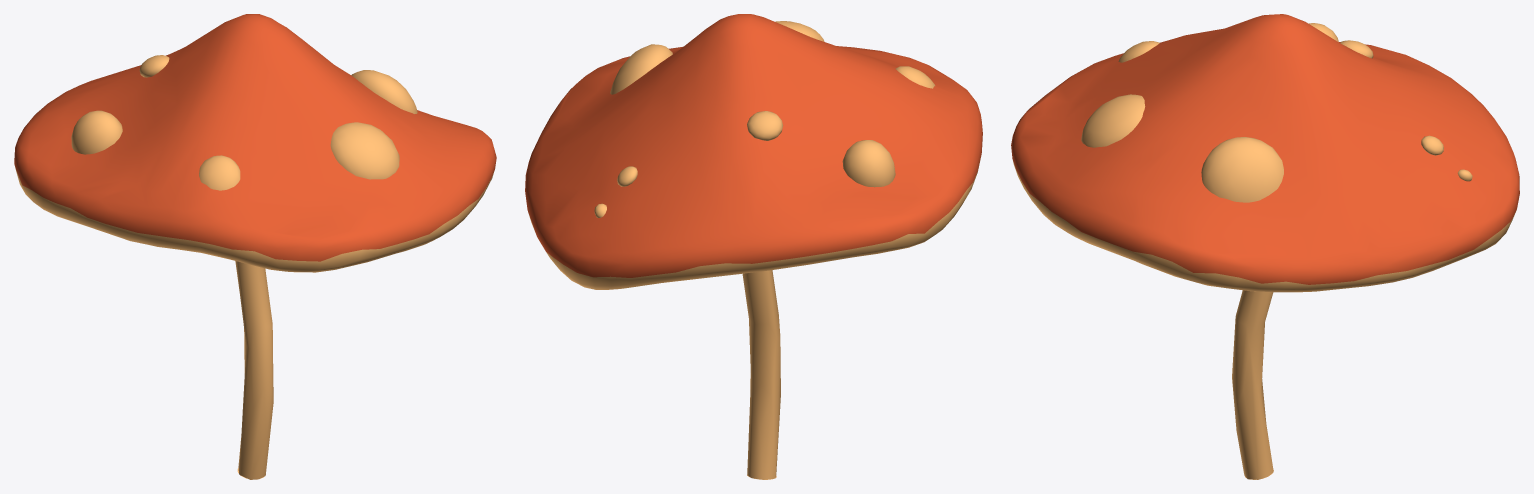
The model's file is hongo.glb.
The picture shows the model from 3 angles, left to right: view 1: azimuth 30°, elevation 25°; view 2: azimuth 150°, elevation 25°; view 3: azimuth 270°, elevation 25°; orthographic projection. The views are drawn at different scales.
Visible parts, largest first — view 1: hongo.002; view 2: hongo.002; view 3: hongo.002.
Part boxes in pixels (bbox=[...]): hongo.002: bbox=[14, 14, 496, 479]; hongo.002: bbox=[525, 14, 982, 479]; hongo.002: bbox=[1011, 14, 1519, 479].
Size of the model in its own units: 4.56 by 4.84 by 4.81.
